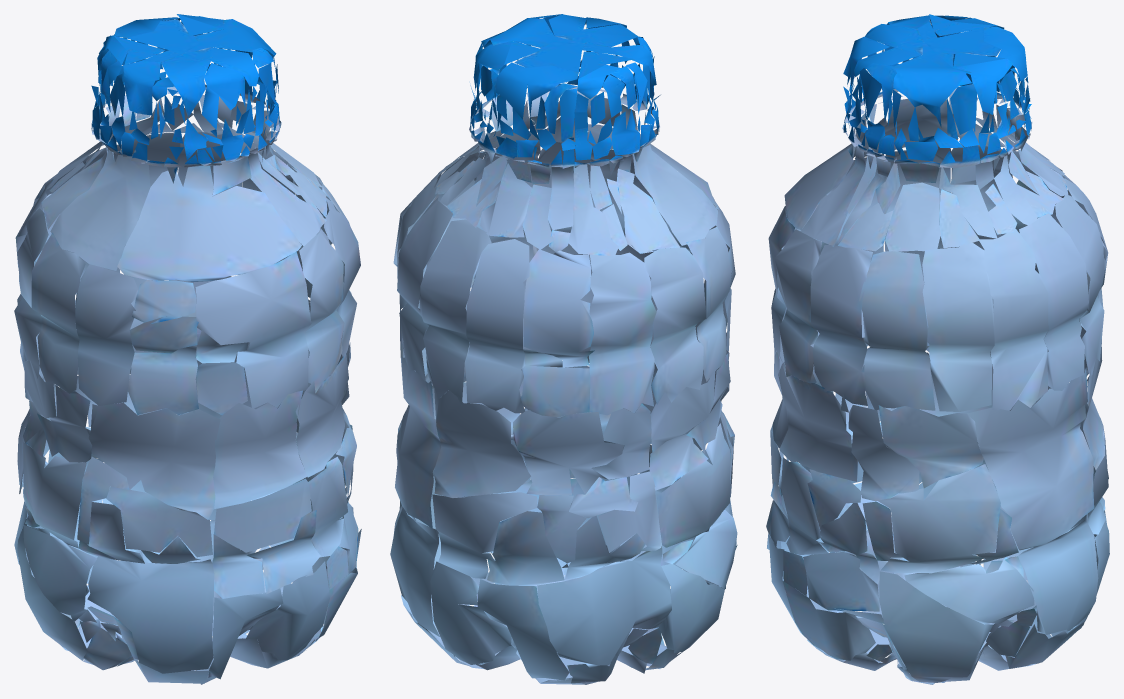
Rendered from waste-bottle.glb.
3 views of the same model, side by side, from view 1: azimuth 30°, elevation 25°; view 2: azimuth 150°, elevation 25°; view 3: azimuth 270°, elevation 25° (orthographic).
Parts seen in each view (by area): view 1: Mesh_0; view 2: Mesh_0; view 3: Mesh_0.
Part boxes in pixels (<box>): Mesh_0: <box>14,14,361,684</box>; Mesh_0: <box>390,14,737,684</box>; Mesh_0: <box>766,14,1109,684</box>.
Size of the model in its own units: 0.9977 by 1.92 by 0.9957.
1 material, 1 textured.
